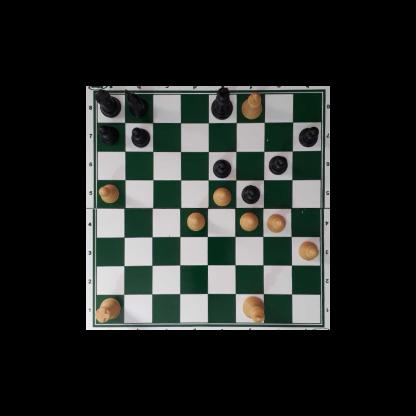black-king: (210, 87, 232, 120)
black-knight: (124, 90, 148, 117)
black-pawn: (298, 125, 319, 148), (98, 125, 119, 145), (268, 154, 288, 174), (241, 183, 260, 204), (131, 125, 149, 147), (212, 158, 231, 178)
black-rook: (94, 89, 121, 117)
white-bishop: (241, 91, 262, 119)
white-king: (241, 295, 265, 323)
white-pawn: (211, 186, 232, 206), (265, 212, 285, 233), (98, 183, 119, 203), (297, 241, 319, 260), (238, 211, 258, 231), (186, 212, 205, 231)
white-rook: (94, 296, 120, 323)
